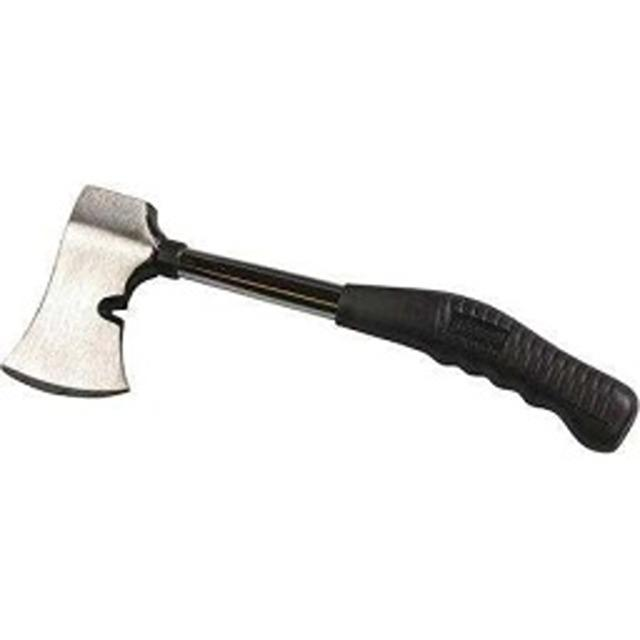ax: (5, 175, 640, 470)
